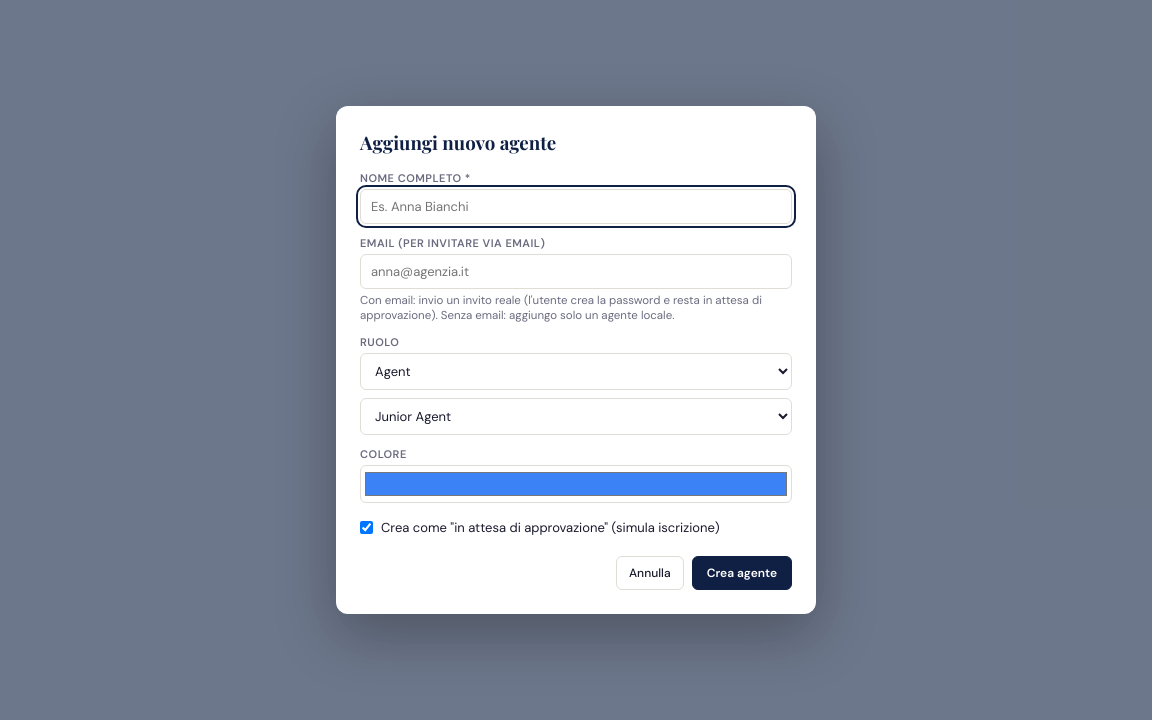
AddTeamMemberModal — nome ed email, ciascuno col proprio messaggio › il nome mancante è legato al campo e il focus ci torna sopra
What coordinates should you click on to do the following:
click the button "Crea agente"
I would click on:
 (742, 573)
Its box is [692, 556, 792, 590].
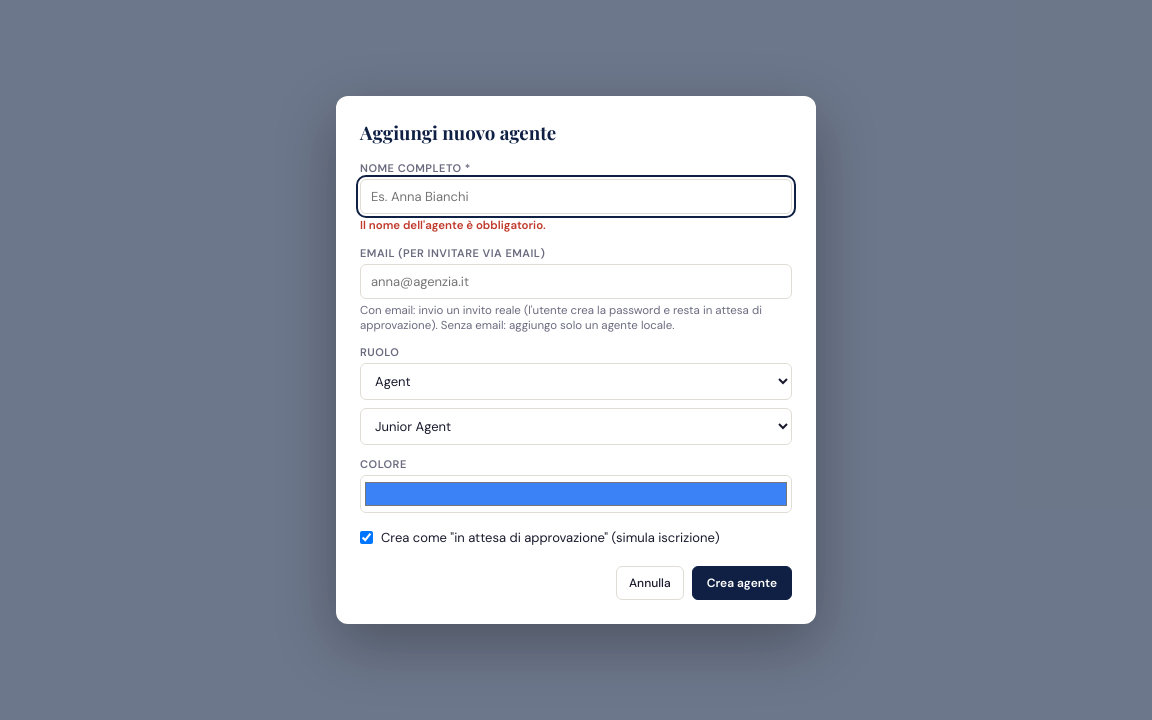
Expected: the message shows "obbligatorio", [360, 218, 546, 233]
